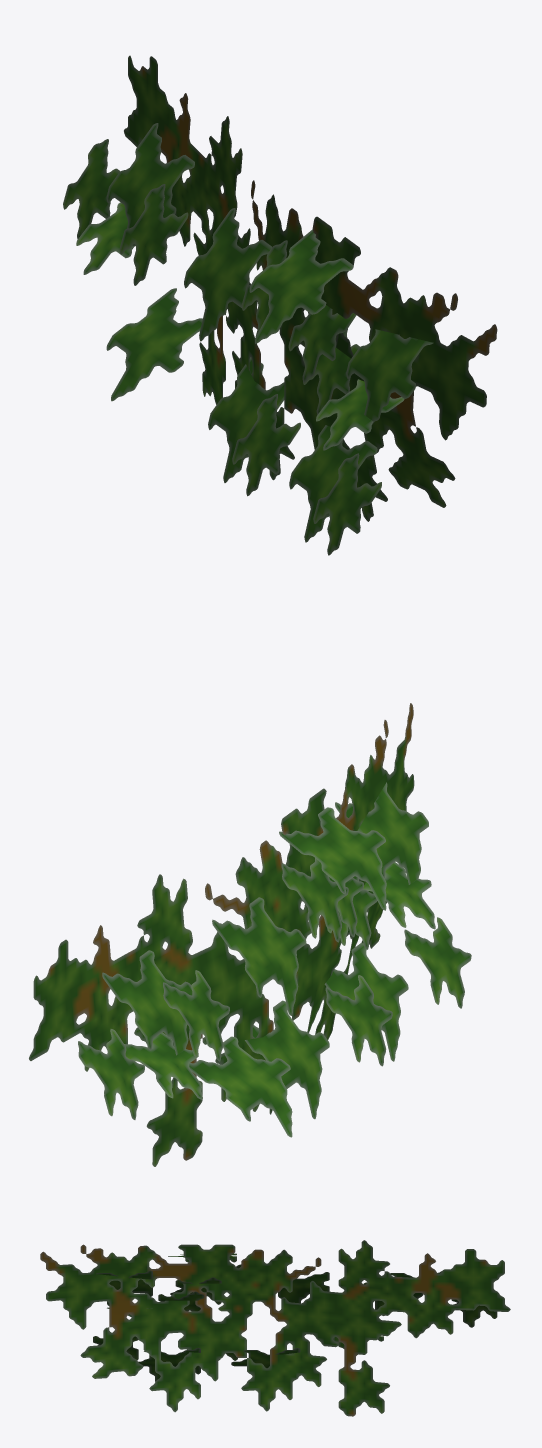
Rendered from Ivy_4.fbx.
The picture shows the model from 3 angles, top to bottom: view 1: azimuth 30°, elevation 25°; view 2: azimuth 150°, elevation 25°; view 3: azimuth 270°, elevation 25°; orthographic projection. The views are drawn at different scales.
Visible parts, largest first — view 1: Plane.007; view 2: Plane.007; view 3: Plane.007.
Part boxes in pixels (x1,y1,x2,y2): Plane.007: (63, 55, 497, 555); Plane.007: (29, 703, 471, 1166); Plane.007: (40, 1240, 510, 1416).
Size of the model in its own units: 61.7 by 118 by 280.
